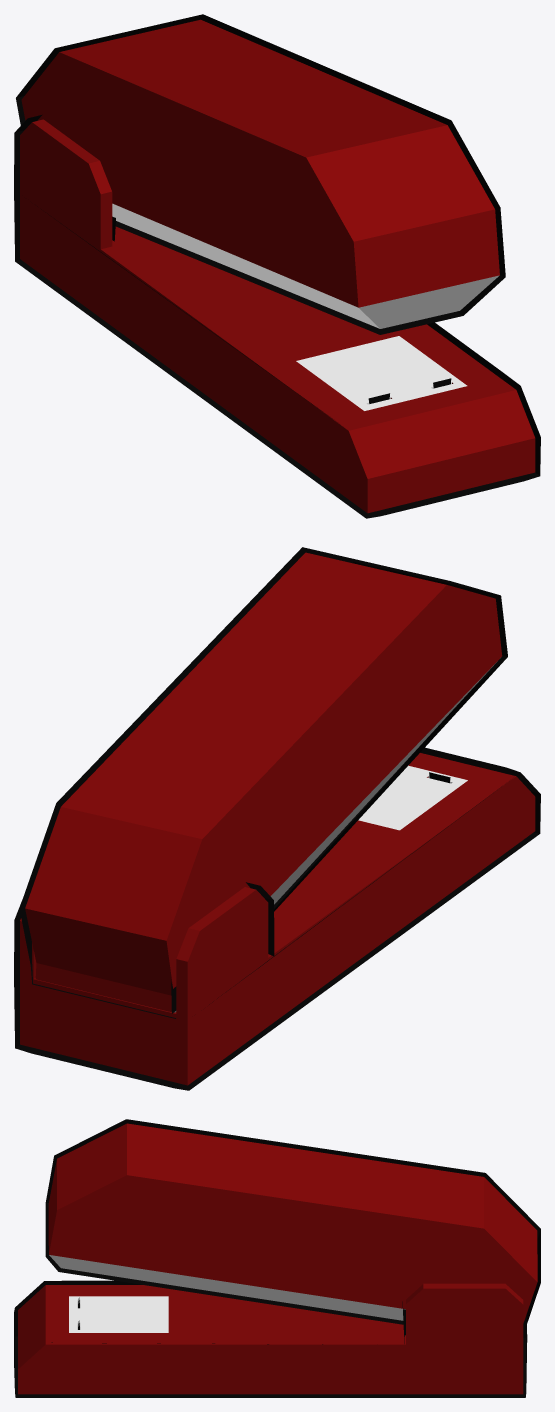
Rendered from stapler_remake_grampeador.glb.
The picture shows the model from 3 angles, top to bottom: view 1: azimuth 30°, elevation 25°; view 2: azimuth 150°, elevation 25°; view 3: azimuth 270°, elevation 25°; orthographic projection. The views are drawn at different scales.
Parts seen in each view (by area): view 1: pCube3, pCube4; view 2: pCube3, pCube4; view 3: pCube3, pCube4.
Boxes of the visible parts, left/top/right/bottom form: pCube3: left=20, top=19, right=535, bottom=513; pCube4: left=14, top=14, right=540, bottom=518; pCube3: left=20, top=552, right=535, bottom=1085; pCube4: left=14, top=547, right=540, bottom=1090; pCube3: left=18, top=1123, right=537, bottom=1394; pCube4: left=14, top=1119, right=540, bottom=1397.
Bounding box in the file's own units: 0.0117 × 0.0193 × 0.0414.
